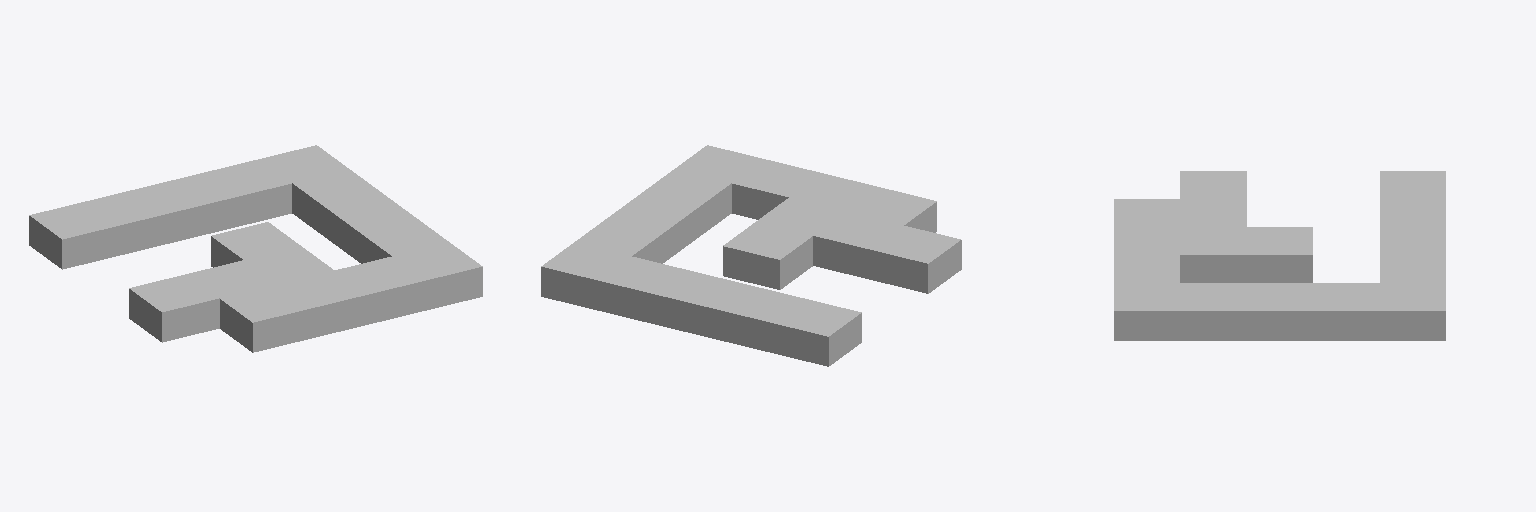
The model's file is 25f_block.obj.
3 renders of one model, left to right at view 1: azimuth 30°, elevation 25°; view 2: azimuth 150°, elevation 25°; view 3: azimuth 270°, elevation 25°, orthographic.
Parts seen in each view (by area): view 1: foil.block.0.1_block.3385, foil.block.0.4_block.3386, foil.block.1.0_block.3387, foil.block.2.4_block.3393, foil.block.4.0_block.3396, foil.block.2.0_block.3390, foil.block.1.4_block.3389, foil.block.3.0_block.3394, foil.block.3.4_block.3395, foil.block.4.3_block.3399, foil.block.4.2_block.3398, foil.block.4.1_block.3397 (+4 smaller); view 2: foil.block.0.1_block.3385, foil.block.0.4_block.3386, foil.block.2.2_block.3392, foil.block.4.4_block.3400, foil.block.1.1_block.3388, foil.block.2.4_block.3393, foil.block.1.4_block.3389, foil.block.3.4_block.3395, foil.block.3.0_block.3394, foil.block.4.1_block.3397, foil.block.4.2_block.3398, foil.block.4.3_block.3399 (+4 smaller); view 3: foil.block.4.1_block.3397, foil.block.4.3_block.3399, foil.block.4.0_block.3396, foil.block.4.2_block.3398, foil.block.4.4_block.3400, foil.block.2.1_block.3391, foil.block.2.2_block.3392, foil.block.0.1_block.3385, foil.block.1.1_block.3388, foil.block.0.4_block.3386, foil.block.1.0_block.3387, foil.block.1.4_block.3389 (+4 smaller).
Boxes of the visible parts, x1=… form: foil.block.0.1_block.3385: x1=129, y1=274, x2=219, y2=342; foil.block.0.4_block.3386: x1=29, y1=201, x2=119, y2=269; foil.block.1.0_block.3387: x1=220, y1=285, x2=309, y2=352; foil.block.2.4_block.3393: x1=145, y1=173, x2=234, y2=241; foil.block.4.0_block.3396: x1=392, y1=242, x2=482, y2=310; foil.block.2.0_block.3390: x1=277, y1=270, x2=367, y2=338; foil.block.1.4_block.3389: x1=87, y1=187, x2=176, y2=254; foil.block.3.0_block.3394: x1=335, y1=257, x2=424, y2=324; foil.block.3.4_block.3395: x1=202, y1=159, x2=291, y2=226; foil.block.4.3_block.3399: x1=292, y1=169, x2=382, y2=237; foil.block.4.2_block.3398: x1=326, y1=194, x2=415, y2=261; foil.block.4.1_block.3397: x1=359, y1=218, x2=448, y2=263; foil.block.0.1_block.3385: x1=871, y1=226, x2=961, y2=293; foil.block.0.4_block.3386: x1=771, y1=298, x2=861, y2=366; foil.block.2.2_block.3392: x1=723, y1=222, x2=812, y2=289; foil.block.4.4_block.3400: x1=541, y1=242, x2=631, y2=310; foil.block.1.1_block.3388: x1=813, y1=212, x2=903, y2=279; foil.block.2.4_block.3393: x1=656, y1=270, x2=746, y2=338; foil.block.1.4_block.3389: x1=714, y1=285, x2=803, y2=352; foil.block.3.4_block.3395: x1=599, y1=257, x2=688, y2=324; foil.block.3.0_block.3394: x1=732, y1=159, x2=821, y2=219; foil.block.4.1_block.3397: x1=641, y1=169, x2=731, y2=237; foil.block.4.2_block.3398: x1=608, y1=194, x2=697, y2=261; foil.block.4.3_block.3399: x1=575, y1=218, x2=664, y2=263; foil.block.4.1_block.3397: x1=1180, y1=283, x2=1246, y2=340; foil.block.4.3_block.3399: x1=1313, y1=283, x2=1379, y2=340; foil.block.4.0_block.3396: x1=1114, y1=283, x2=1179, y2=340; foil.block.4.2_block.3398: x1=1247, y1=283, x2=1312, y2=340; foil.block.4.4_block.3400: x1=1380, y1=283, x2=1445, y2=340; foil.block.2.1_block.3391: x1=1180, y1=227, x2=1246, y2=282; foil.block.2.2_block.3392: x1=1247, y1=227, x2=1312, y2=282; foil.block.0.1_block.3385: x1=1180, y1=171, x2=1246, y2=198; foil.block.1.1_block.3388: x1=1180, y1=199, x2=1246, y2=226; foil.block.0.4_block.3386: x1=1380, y1=171, x2=1445, y2=198; foil.block.1.0_block.3387: x1=1114, y1=199, x2=1179, y2=226; foil.block.1.4_block.3389: x1=1380, y1=199, x2=1445, y2=226.
Size of the model in its own units: 10 by 1 by 10.